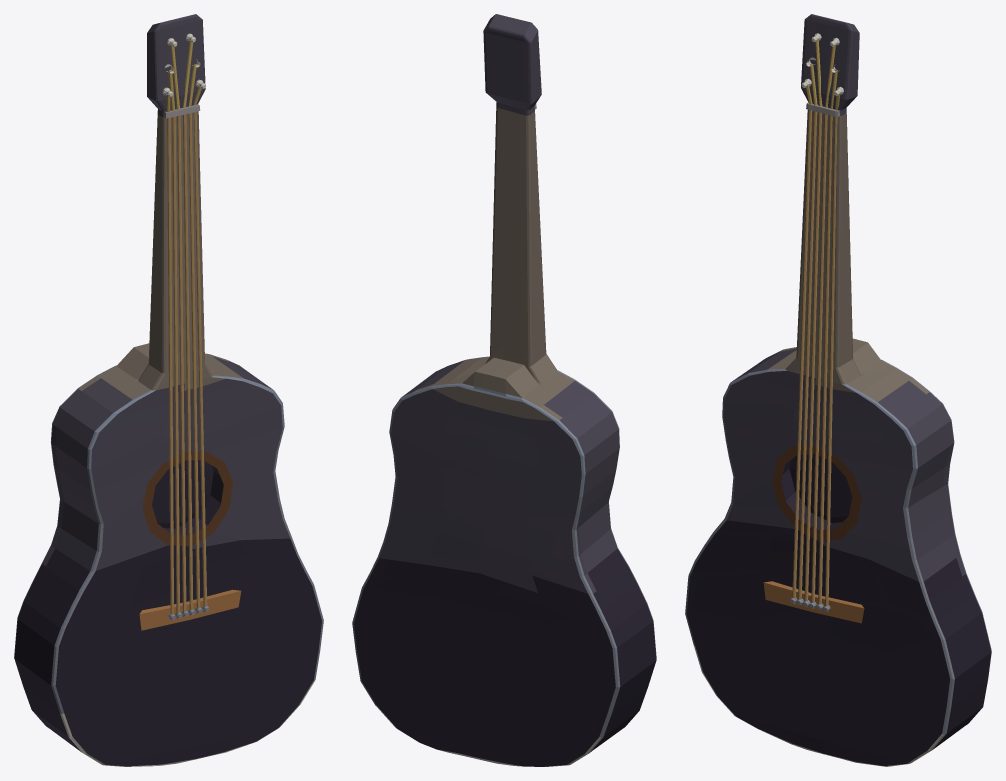
Rendered from guitar.glb.
3 views of the same model, side by side, from view 1: azimuth 30°, elevation 25°; view 2: azimuth 150°, elevation 25°; view 3: azimuth 330°, elevation 25° (orthographic).
Visible parts, largest first — view 1: Guitar; view 2: Guitar; view 3: Guitar.
Boxes of the visible parts, x1,y1,x2,y2 form: Guitar: [14, 14, 323, 766]; Guitar: [352, 14, 656, 766]; Guitar: [685, 14, 991, 766].
Size of the model in its own units: 0.3488 by 0.9 by 0.1029.
